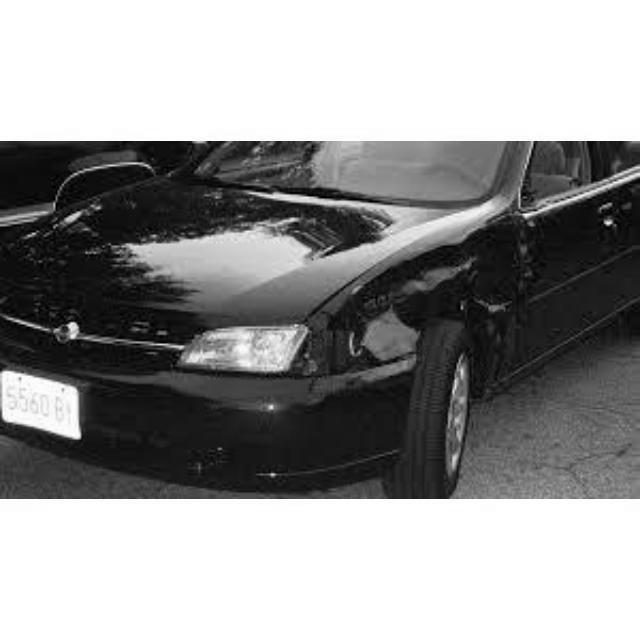fender-dent: (380, 190, 529, 354)
